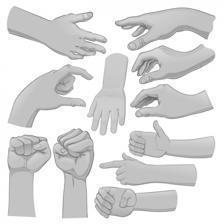Hand: (116, 8, 217, 43)
